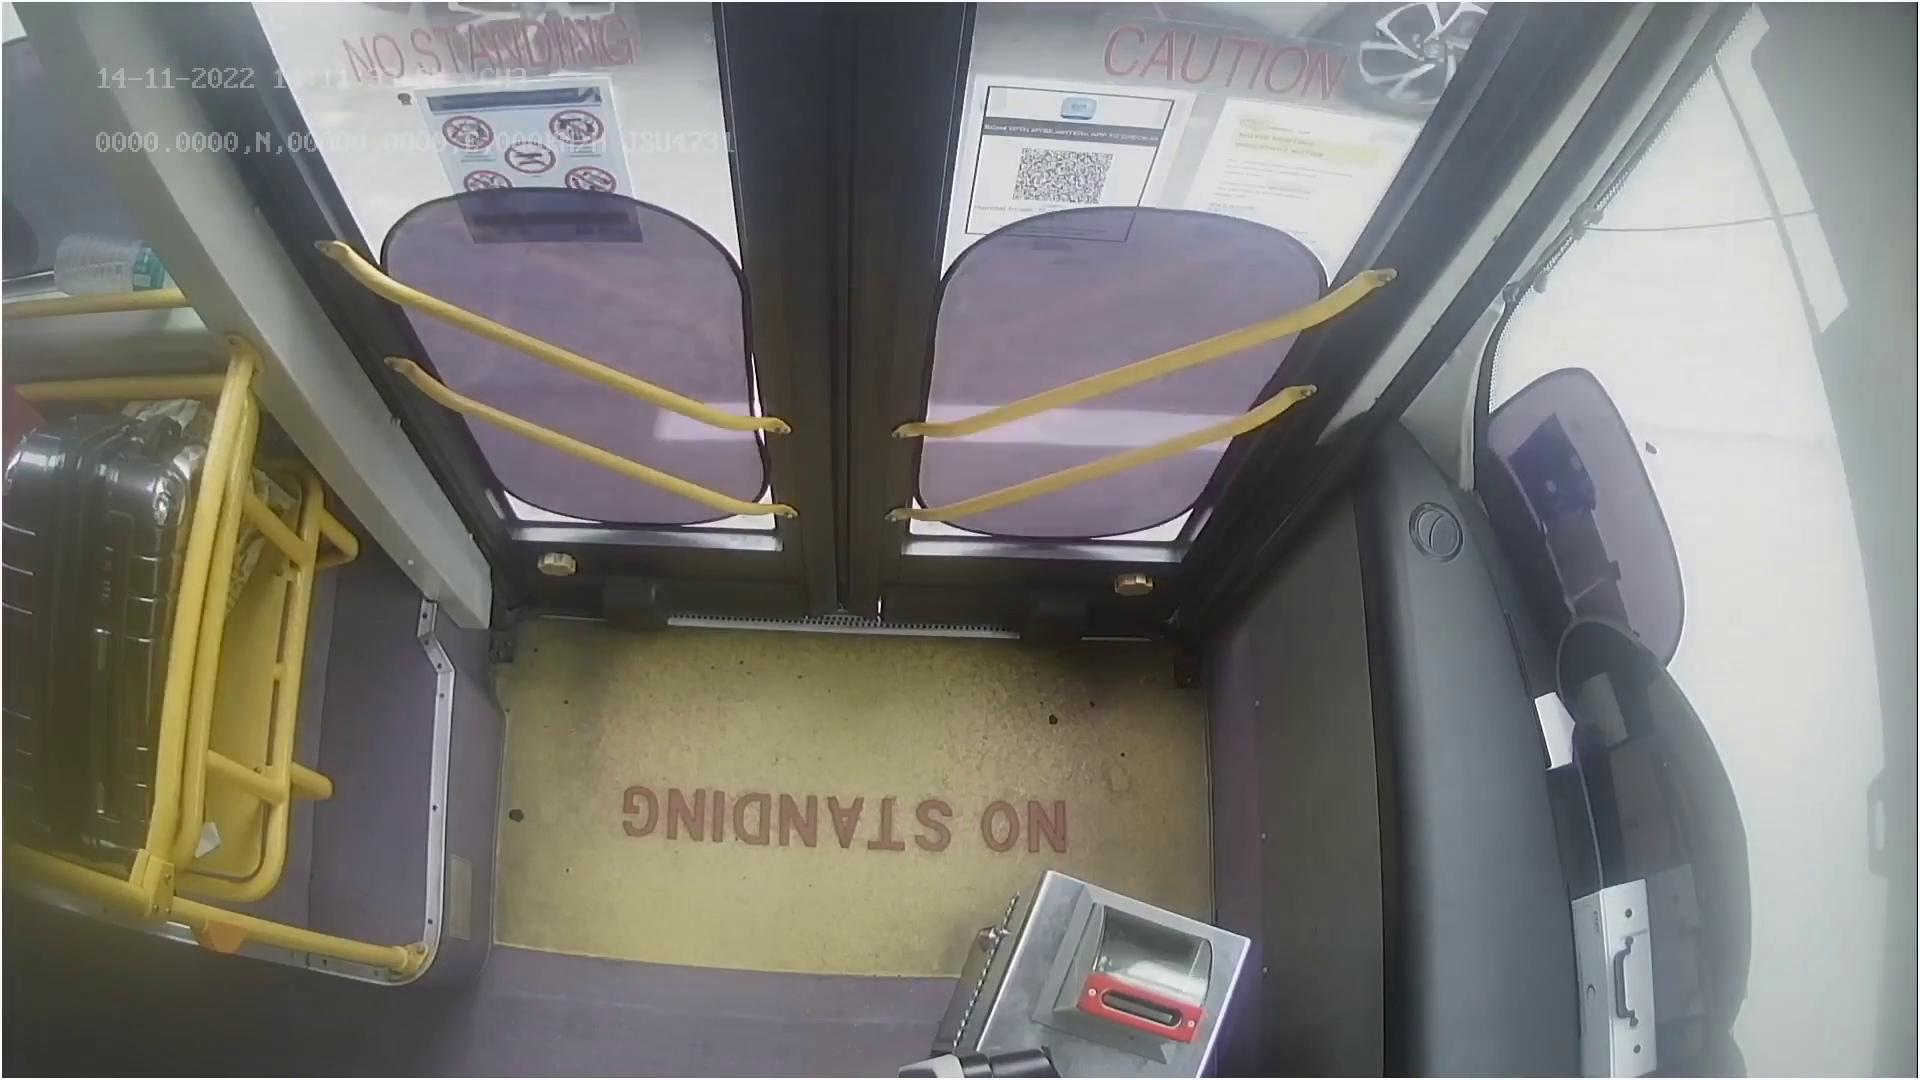close: (286, 0, 1439, 169)
